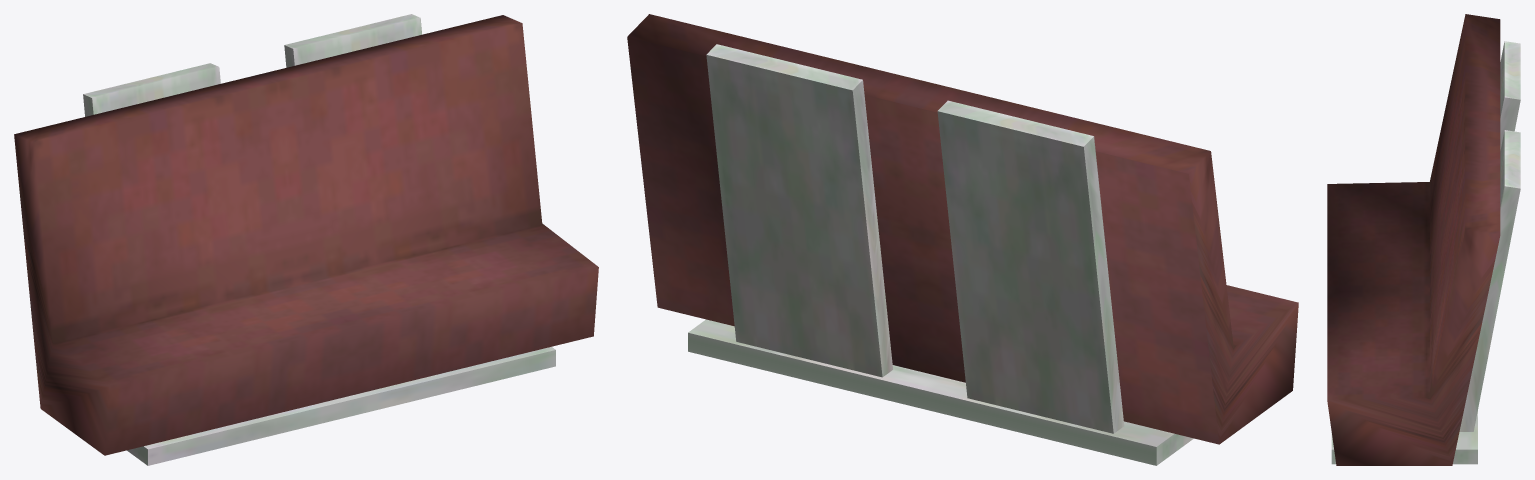
File: frn_all_couch_futon_s1_l3.fbx
The picture shows the model from 3 angles, left to right: view 1: azimuth 30°, elevation 25°; view 2: azimuth 150°, elevation 25°; view 3: azimuth 270°, elevation 25°; orthographic projection. The views are drawn at different scales.
Parts seen in each view (by area): view 1: mesh_node; view 2: mesh_node; view 3: mesh_node.
Part boxes in pixels (x1,y1,x2,y2): mesh_node: (14,14,598,465); mesh_node: (627,14,1298,465); mesh_node: (1327,14,1520,465).
Size of the model in its own units: 2 by 1.14 by 0.7564.
1 material, 1 textured.
